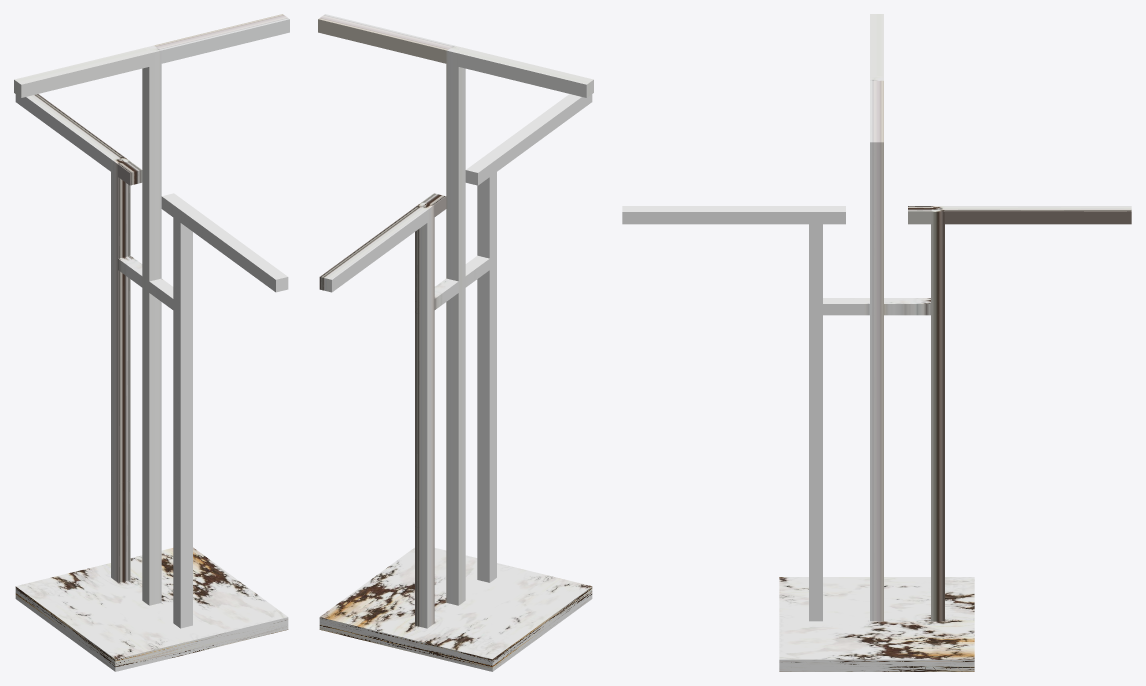
File: hanger2.fbx
3 renders of one model, left to right at view 1: azimuth 30°, elevation 25°; view 2: azimuth 150°, elevation 25°; view 3: azimuth 270°, elevation 25°, orthographic. The views are drawn at different scales.
Parts seen in each view (by area): view 1: Cube; view 2: Cube; view 3: Cube.
Boxes of the visible parts, left/top/right/bottom form: Cube: left=14, top=14, right=289, bottom=671; Cube: left=318, top=14, right=593, bottom=671; Cube: left=622, top=14, right=1131, bottom=671.
Bounding box in the file's own units: 311 × 624 × 521.
